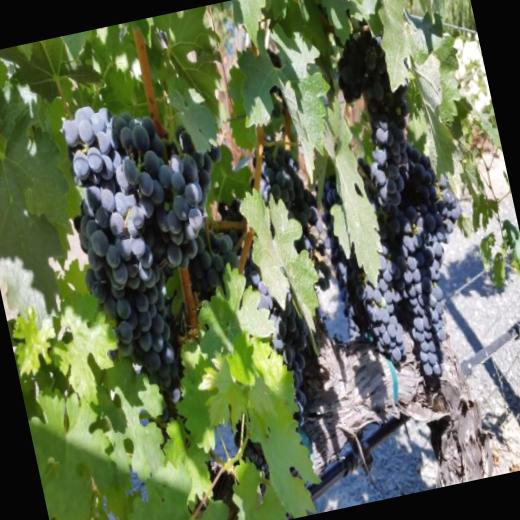Orange: (51, 80, 281, 427), (286, 14, 496, 394), (243, 254, 327, 430), (251, 138, 340, 300), (232, 418, 272, 482)
